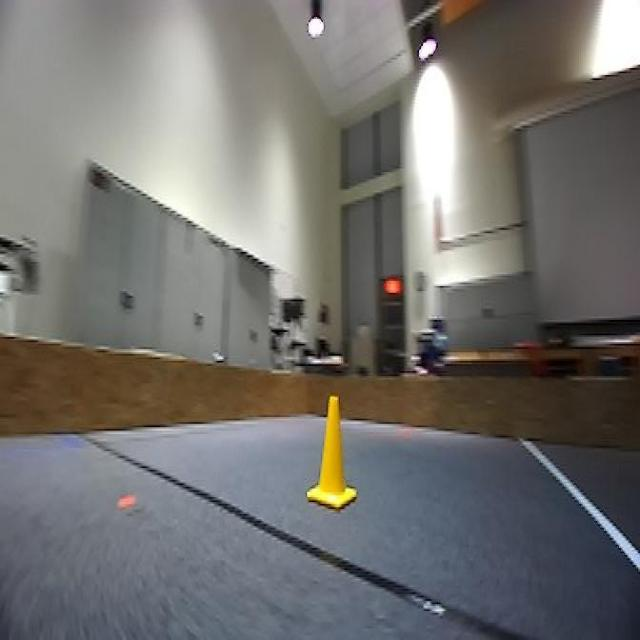frc_cone: (311, 400, 358, 523)
